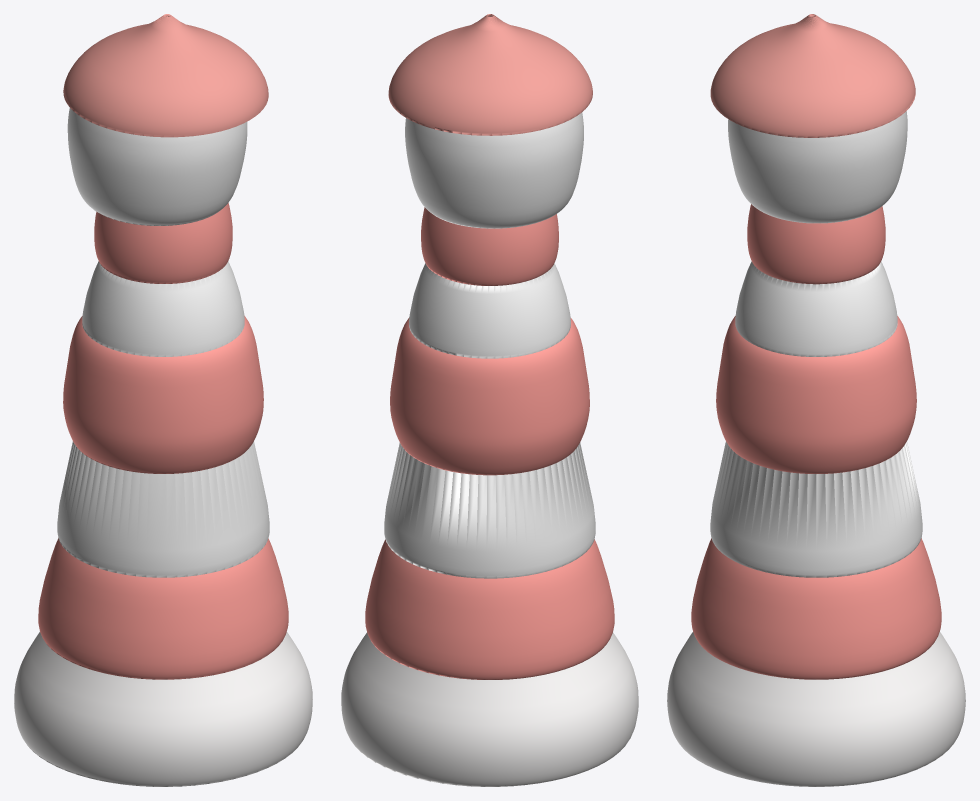
Rendered from lighthouse.fbx.
3 views of the same model, side by side, from view 1: azimuth 30°, elevation 25°; view 2: azimuth 150°, elevation 25°; view 3: azimuth 270°, elevation 25° (orthographic).
Visible parts, largest first — view 1: lighthouse; view 2: lighthouse; view 3: lighthouse.
Boxes of the visible parts, x1=… form: lighthouse: x1=14, y1=14, x2=312, y2=786; lighthouse: x1=341, y1=14, x2=638, y2=786; lighthouse: x1=667, y1=14, x2=965, y2=786.
Size of the model in its own units: 40.67 by 107 by 40.67.
